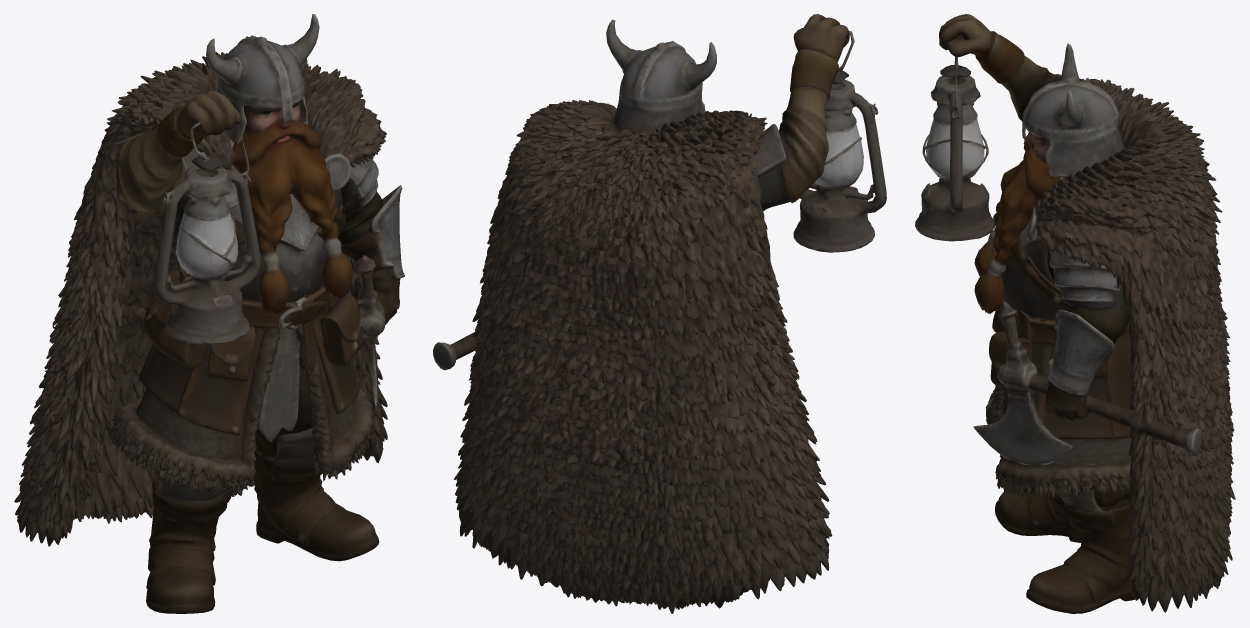
Rendered from Dwarf.glb.
The picture shows the model from 3 angles, left to right: view 1: azimuth 30°, elevation 25°; view 2: azimuth 150°, elevation 25°; view 3: azimuth 270°, elevation 25°; orthographic projection. The views are drawn at different scales.
Visible parts, largest first — view 1: world; view 2: world; view 3: world.
Part boxes in pixels (x1,y1,x2,y2): world: [14, 14, 404, 613]; world: [433, 14, 886, 613]; world: [915, 14, 1235, 613].
Bounding box in the file's own units: 0.7236 × 1 × 0.5759.
Materials: 1 (1 with a texture image).
